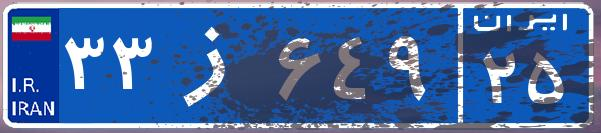2: (475, 38, 525, 113)
3: (57, 26, 110, 107), (110, 28, 158, 105)
4: (330, 28, 385, 110)
5: (525, 38, 570, 115)
6: (273, 28, 330, 110)
9: (385, 28, 445, 110)
ز: (158, 15, 273, 115)
